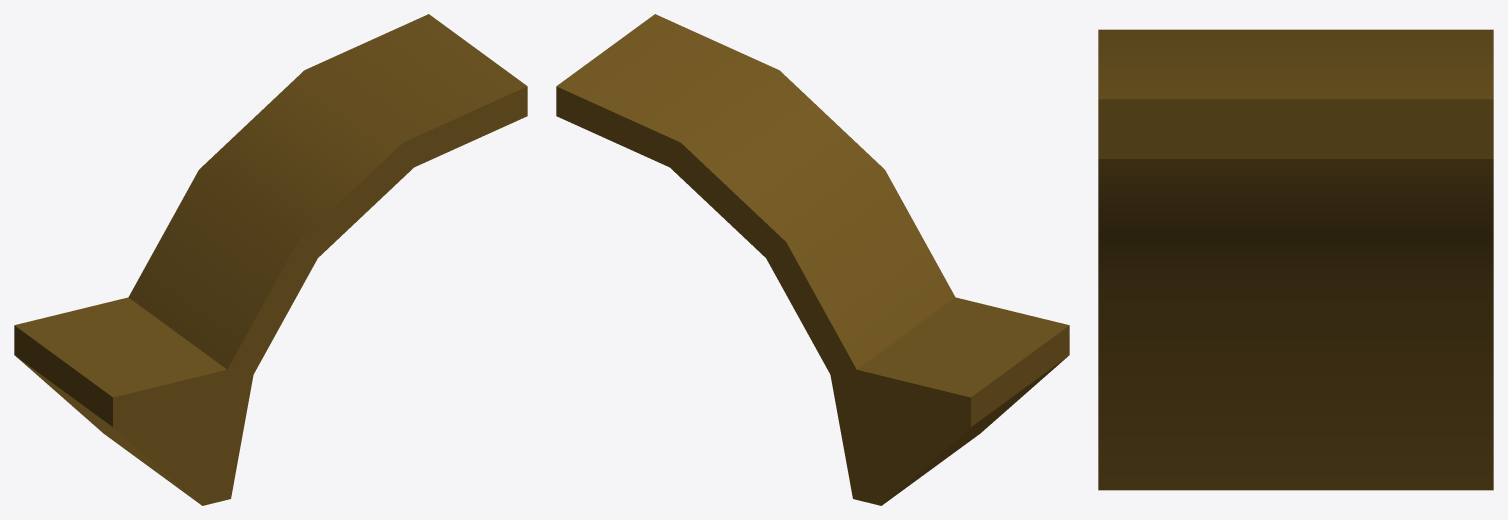
Rendered from original-31.obj.
3 renders of one model, left to right at view 1: azimuth 30°, elevation 25°; view 2: azimuth 150°, elevation 25°; view 3: azimuth 270°, elevation 25°, orthographic. The views are drawn at different scales.
Parts seen in each view (by area): view 1: mesh37/mesh37-geometry#mesh37-geometry; view 2: mesh37/mesh37-geometry#mesh37-geometry; view 3: mesh37/mesh37-geometry#mesh37-geometry.
Part boxes in pixels (x1,y1,x2,y2): mesh37/mesh37-geometry#mesh37-geometry: [14, 14, 527, 505]; mesh37/mesh37-geometry#mesh37-geometry: [556, 14, 1069, 505]; mesh37/mesh37-geometry#mesh37-geometry: [1098, 29, 1493, 490].
Bounding box in the file's own units: 0.1159 × 0.091 × 0.0479.
